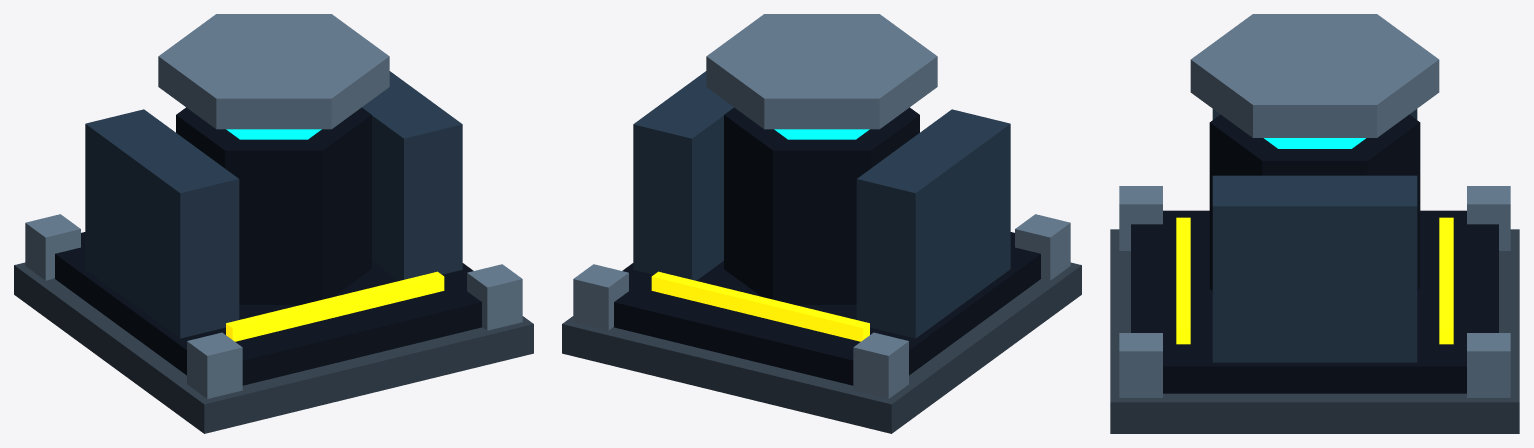
Rendered from generator_low.glb.
The picture shows the model from 3 angles, left to right: view 1: azimuth 30°, elevation 25°; view 2: azimuth 150°, elevation 25°; view 3: azimuth 270°, elevation 25°; orthographic projection. The views are drawn at different scales.
Parts seen in each view (by area): view 1: Cooling pack, Flux vessel, Reactor cap, Foundation, Undercarriage, Cooling pack.001, Copper bus.001, Corner lock.001, Corner lock.003, Corner lock, Flux chamber; view 2: Cooling pack, Flux vessel, Reactor cap, Foundation, Undercarriage, Cooling pack.001, Copper bus, Corner lock, Corner lock.002, Corner lock.001, Flux chamber; view 3: Cooling pack.001, Undercarriage, Reactor cap, Foundation, Flux vessel, Corner lock.002, Corner lock.003, Corner lock, Corner lock.001, Copper bus, Copper bus.001, Flux chamber.
Boxes of the visible parts, x1,y1,x2,y2 form: Cooling pack: (85, 109, 239, 338); Flux vessel: (176, 107, 371, 304); Reactor cap: (158, 14, 389, 129); Foundation: (14, 262, 533, 433); Undercarriage: (54, 232, 482, 385); Cooling pack.001: (362, 71, 462, 280); Copper bus.001: (226, 271, 444, 341); Corner lock.001: (187, 332, 242, 398); Corner lock.003: (467, 264, 522, 330); Corner lock: (25, 214, 80, 280); Flux chamber: (226, 129, 321, 139); Cooling pack: (856, 109, 1010, 338); Flux vessel: (724, 107, 919, 304); Reactor cap: (706, 14, 937, 129); Foundation: (562, 262, 1081, 433); Undercarriage: (613, 232, 1041, 385); Cooling pack.001: (633, 71, 733, 280); Copper bus: (651, 271, 869, 341); Corner lock: (853, 332, 908, 398); Corner lock.002: (573, 264, 628, 330); Corner lock.001: (1015, 214, 1070, 280); Flux chamber: (774, 129, 869, 139); Cooling pack.001: (1212, 175, 1417, 362); Undercarriage: (1131, 210, 1498, 393); Reactor cap: (1190, 14, 1439, 137); Foundation: (1110, 229, 1519, 433); Flux vessel: (1209, 114, 1420, 290); Corner lock.002: (1467, 333, 1510, 397); Corner lock.003: (1119, 333, 1162, 397); Corner lock: (1467, 186, 1510, 250); Corner lock.001: (1119, 186, 1162, 250); Copper bus: (1439, 217, 1453, 344); Copper bus.001: (1176, 217, 1190, 344); Flux chamber: (1264, 138, 1365, 148).
Size of the model in its own units: 2.8 by 2.17 by 2.8.
